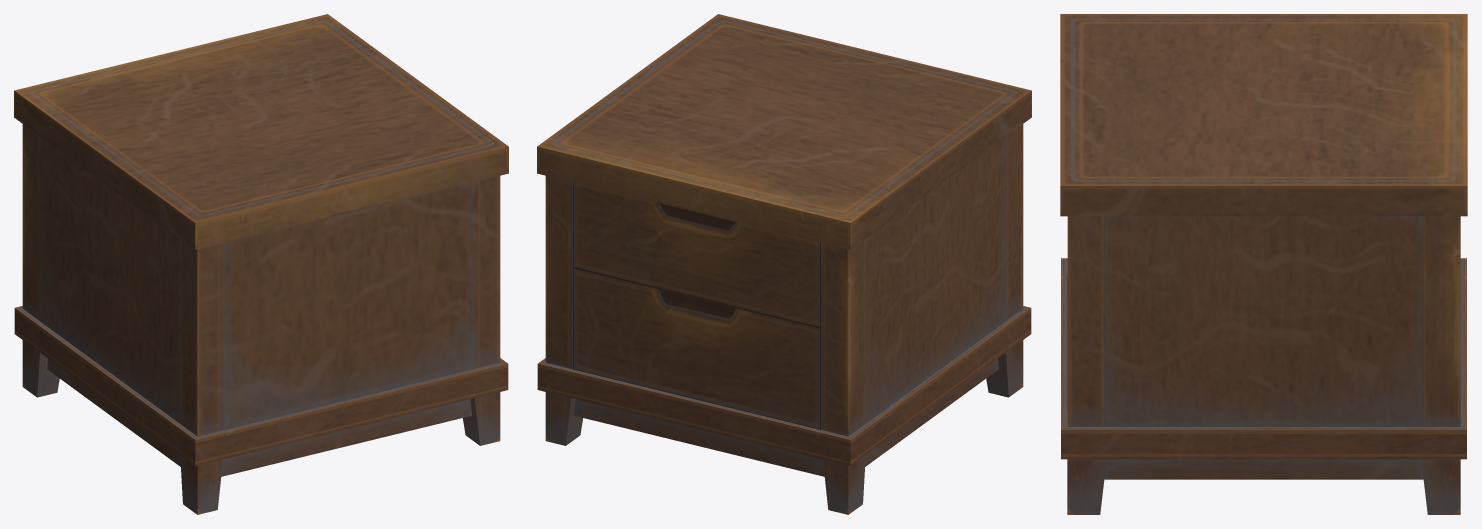
File: P_Nightstand_001_S1_M03.obj
3 renders of one model, left to right at view 1: azimuth 30°, elevation 25°; view 2: azimuth 150°, elevation 25°; view 3: azimuth 270°, elevation 25°, orthographic. The views are drawn at different scales.
Bounding box in the file's own units: 1 × 0.9 × 1.
1 material, 1 textured.
